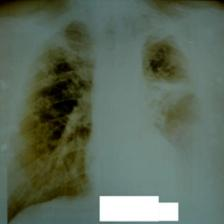tuberculosis: (1, 11, 211, 224)
